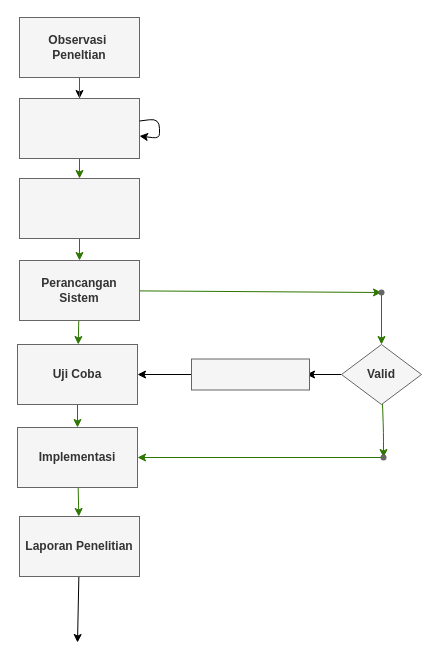
Some shapes in this 439 by 668 pixel diagram are drawn without their labels. The centre of each missing label's shape, as x and y in pixels:
Evaluasi Sistem: the point at 250,374
Indetifikasi Masalah: the point at 79,128
Kajian Teori: the point at 79,208
